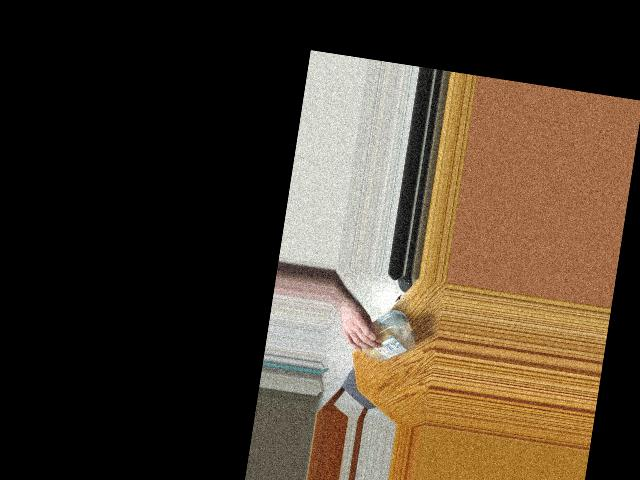cheese: (346, 307, 420, 367)
